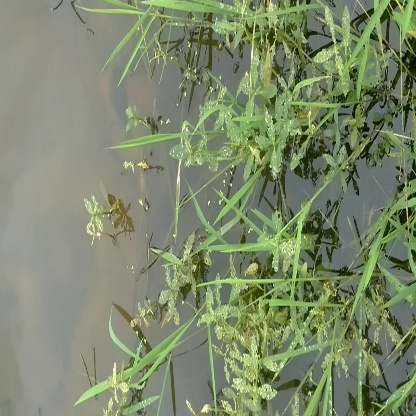grass: (190, 87, 336, 179)
